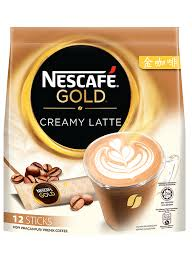nescafe-classic/gold-med: (3, 26, 182, 232)
